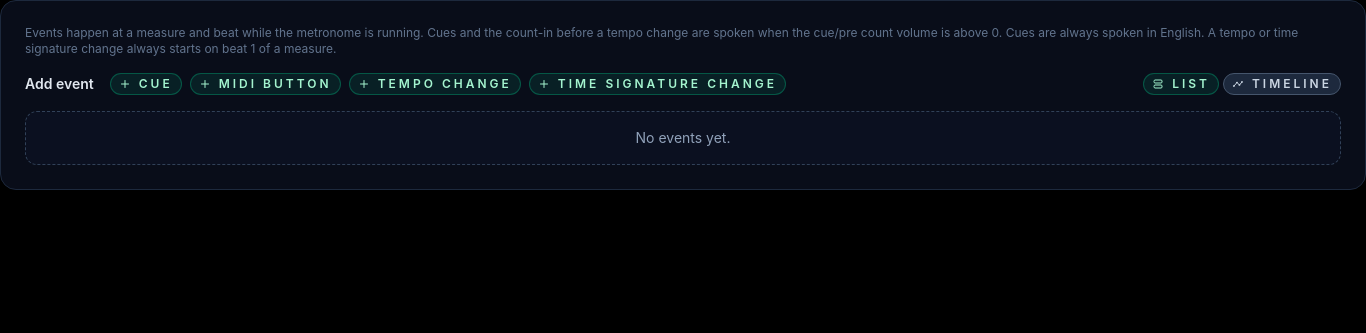
EventsTab › adds a time signature change with another signature than the song
What coordinates should you click on to do the following:
click the button with aria-label "Add time signature change"
I would click on:
 (657, 84)
Its box is [529,73,786,95].
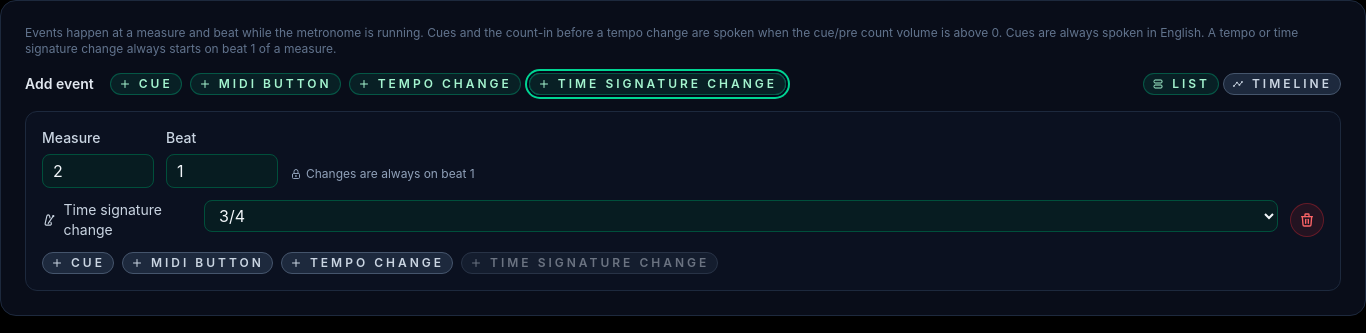
Check: the dropdown named "Time signature" shows "3/4", box [204,200,1278,232]
